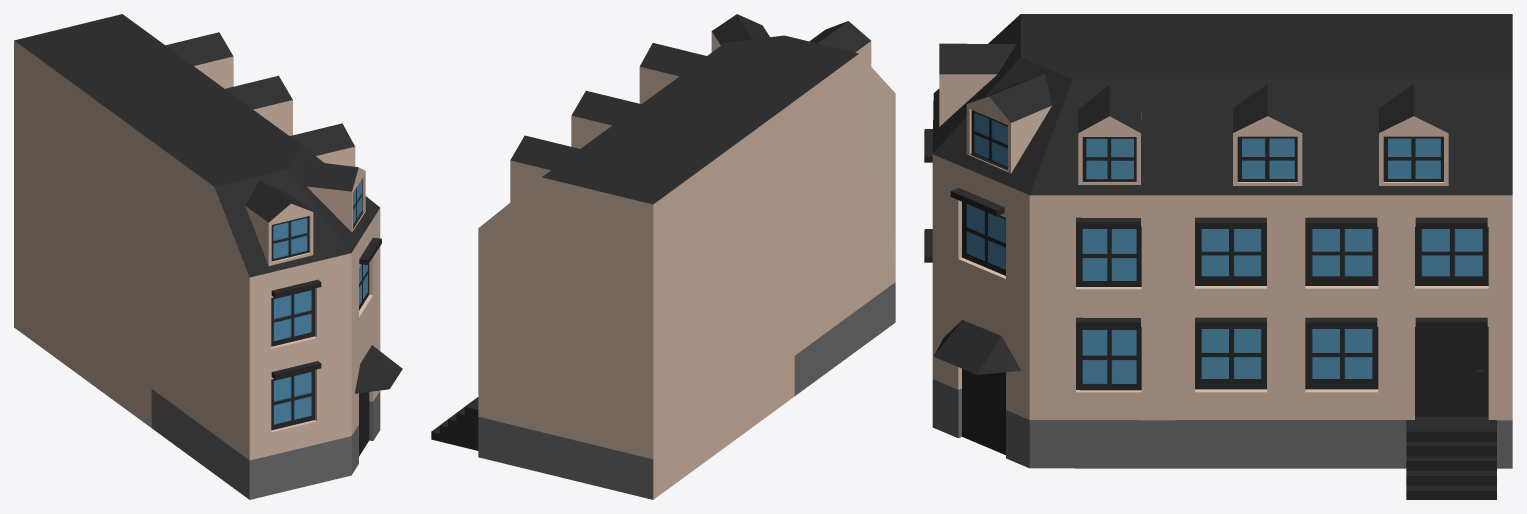
Rendered from NormalSquereLONGBeige.obj.
3 renders of one model, left to right at view 1: azimuth 30°, elevation 25°; view 2: azimuth 150°, elevation 25°; view 3: azimuth 270°, elevation 25°, orthographic. The views are drawn at different scales.
Visible parts, largest first — view 1: ZwyklyDLUGIBezowy; view 2: ZwyklyDLUGIBezowy; view 3: ZwyklyDLUGIBezowy.
Boxes of the visible parts, left/top/right/bottom form: ZwyklyDLUGIBezowy: left=14, top=14, right=402, bottom=499; ZwyklyDLUGIBezowy: left=431, top=14, right=895, bottom=499; ZwyklyDLUGIBezowy: left=924, top=14, right=1512, bottom=499.
Bounding box in the file's own units: 6.53 × 8.07 × 12.2.
